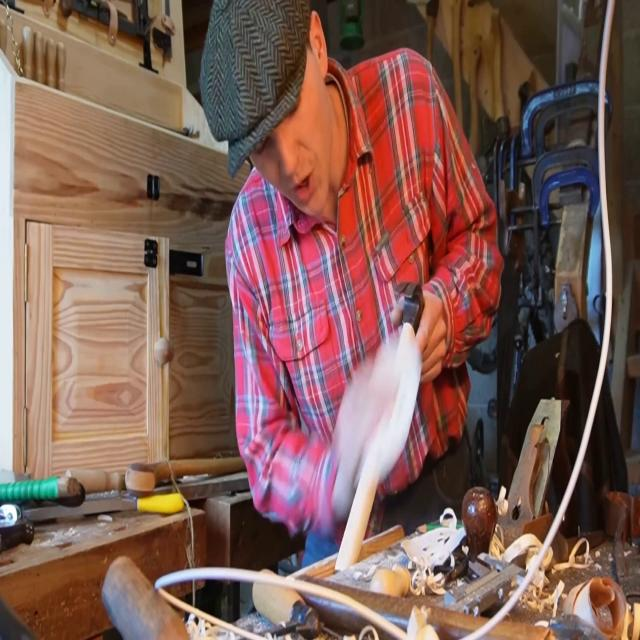hammer: (334, 280, 426, 572)
